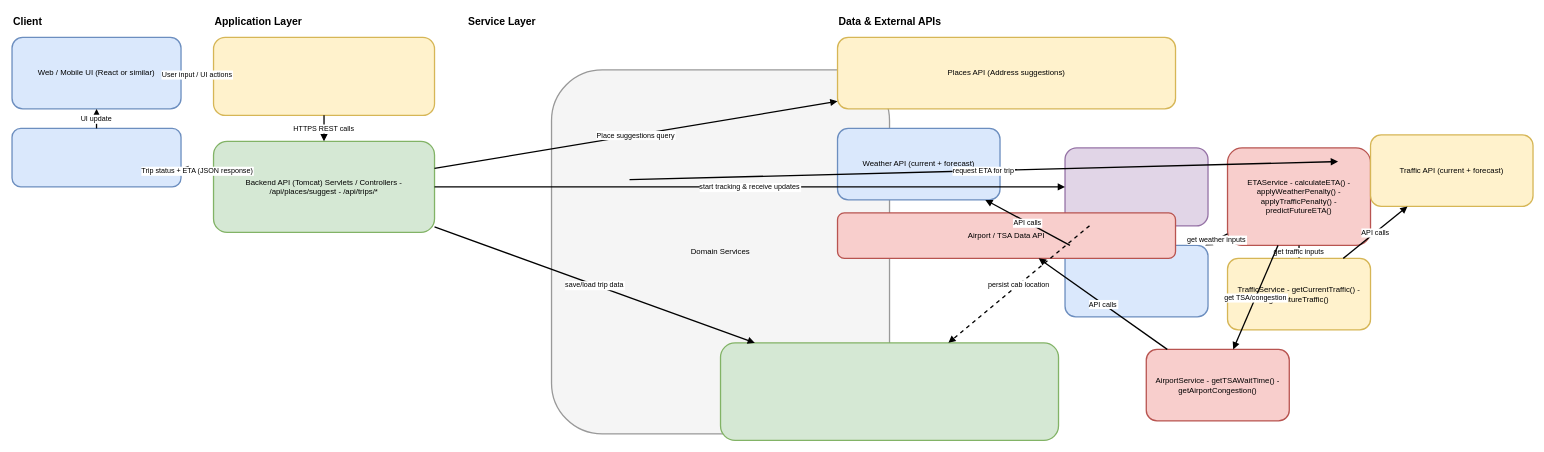
This 1544x452 diagram has some shape labels left out. The shapes that lost their labels are listed below. From the top down, each one's box as (x1, y1, x2, y2) in pixels, then its label:
(213, 36, 435, 116): Frontend - Address search UI - Calls backend /api/*
(11, 127, 181, 187): Results Panel (Shows trip + ETA)
(1064, 147, 1208, 226): TrackingService - receiveGPS(cabID) - sendLiveLocation(userID)
(1064, 244, 1208, 317): WeatherService - getCurrentWeather() - getForecast()
(720, 342, 1059, 441): Database - saveTrip(trip) - loadTrip(tripID) - saveLocation(cabID)
